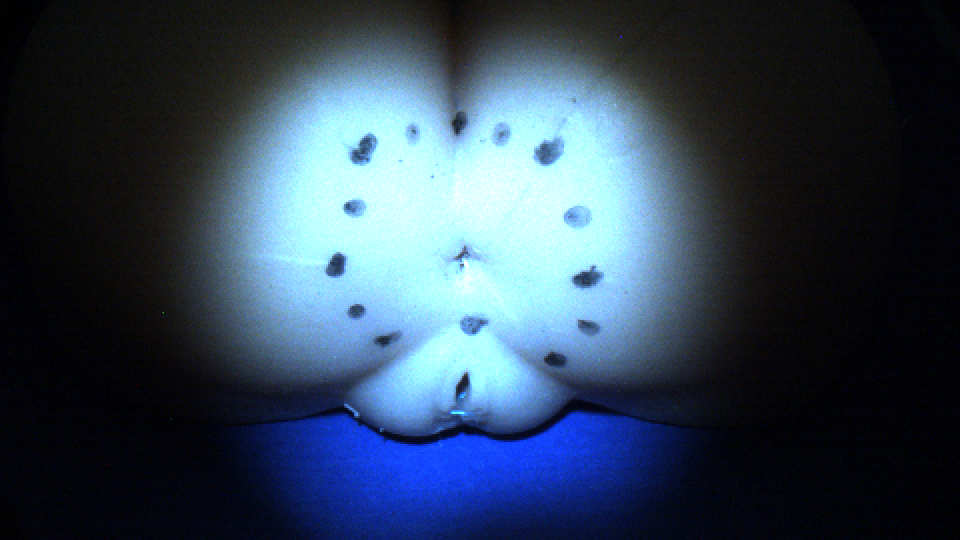asarp_marker: (320, 248, 358, 288), (341, 134, 390, 165), (532, 131, 571, 169), (454, 306, 489, 345), (558, 205, 599, 236), (569, 263, 612, 291), (401, 117, 430, 155), (488, 114, 516, 152), (336, 197, 374, 221), (572, 314, 604, 339), (541, 348, 575, 370), (374, 330, 411, 348), (344, 298, 369, 324), (453, 110, 467, 138)
